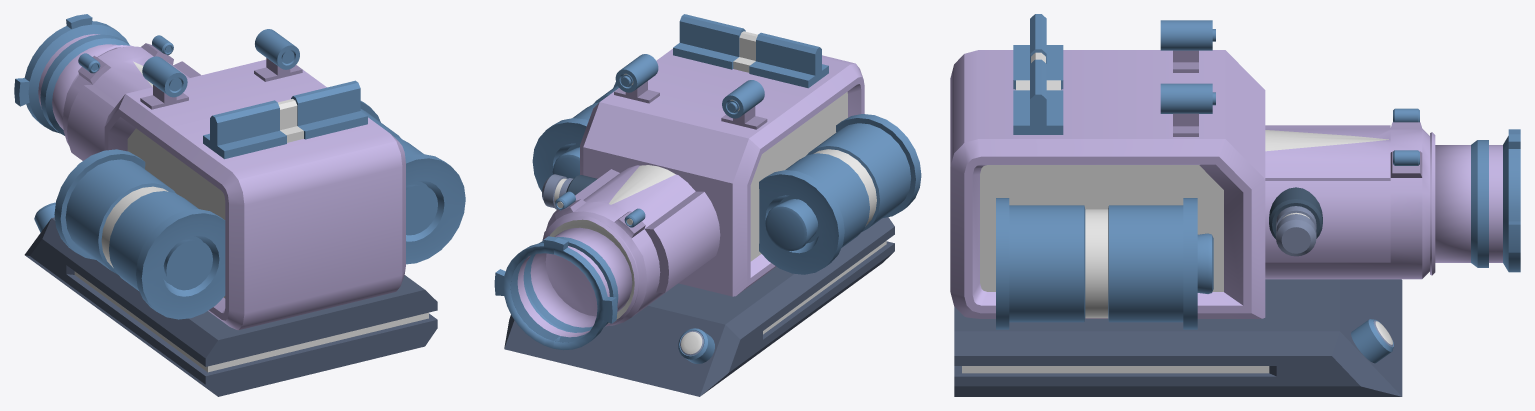
File: canon.fbx
3 renders of one model, left to right at view 1: azimuth 30°, elevation 25°; view 2: azimuth 150°, elevation 25°; view 3: azimuth 270°, elevation 25°, orthographic. The views are drawn at different scales.
Parts seen in each view (by area): view 1: Canon Deck, Canon Cylinders, Cube, Cube.003, Cannon Support, Canon Hole; view 2: Canon Deck, Canon Cylinders, Cube, Cannon Support, Canon Hole, Cube.003, Cannon Headlights, Canon Engine Fuel; view 3: Canon Deck, Cube, Canon Cylinders, Cannon Support, Canon Hole, Cube.003, Canon Engine Fuel, Cannon Headlights, Canon Fuel Ejecter.
Part boxes in pixels (x1,y1,x2,y2): Canon Deck: (104, 59, 405, 330); Canon Cylinders: (54, 29, 465, 319); Cube: (24, 217, 437, 396); Cube.003: (203, 80, 367, 159); Cannon Support: (62, 35, 200, 160); Canon Hole: (14, 14, 130, 135); Canon Deck: (580, 49, 864, 296); Canon Cylinders: (532, 54, 921, 274); Cube: (504, 217, 894, 396); Cannon Support: (542, 165, 720, 326); Canon Hole: (494, 227, 632, 350); Cube.003: (673, 14, 828, 88); Cannon Headlights: (678, 328, 714, 363); Canon Engine Fuel: (542, 174, 573, 208); Canon Deck: (950, 50, 1265, 318); Cube: (954, 279, 1402, 396); Canon Cylinders: (996, 20, 1215, 329); Cannon Support: (1265, 108, 1435, 279); Canon Hole: (1435, 129, 1520, 272); Cube.003: (1013, 14, 1063, 134); Canon Engine Fuel: (1276, 206, 1316, 256); Cannon Headlights: (1351, 319, 1393, 363); Canon Fuel Ejecter: (1269, 187, 1322, 238).
Size of the model in its own units: 12.71 by 9.25 by 16.75.
